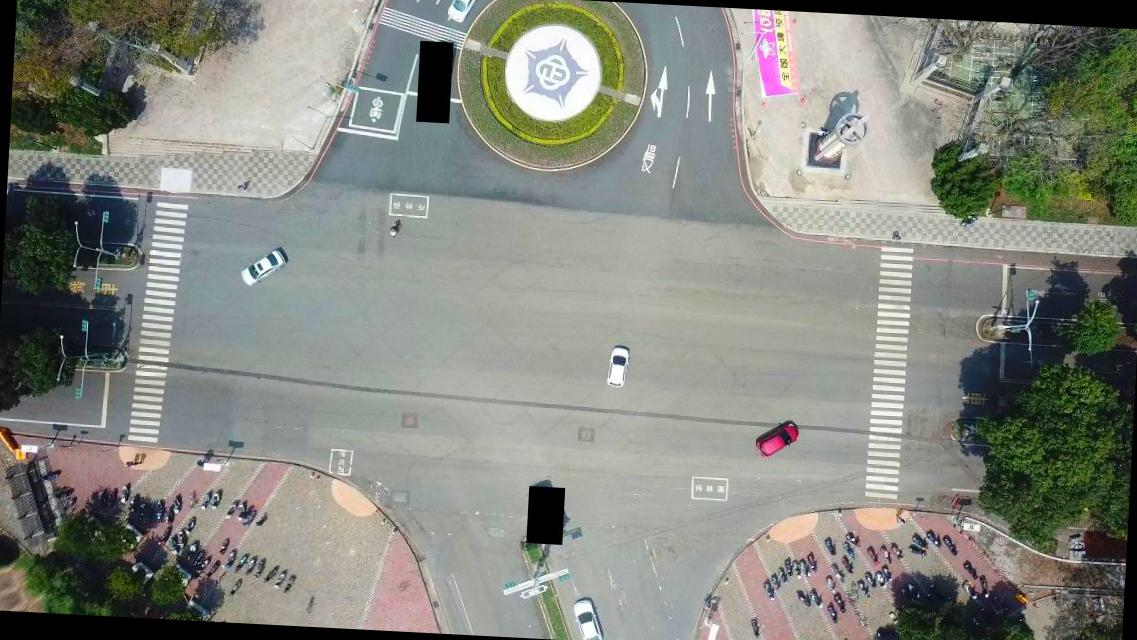vehicle: (753, 416, 800, 463), (240, 247, 286, 289), (569, 596, 604, 639), (604, 345, 630, 388), (443, 0, 481, 27)
